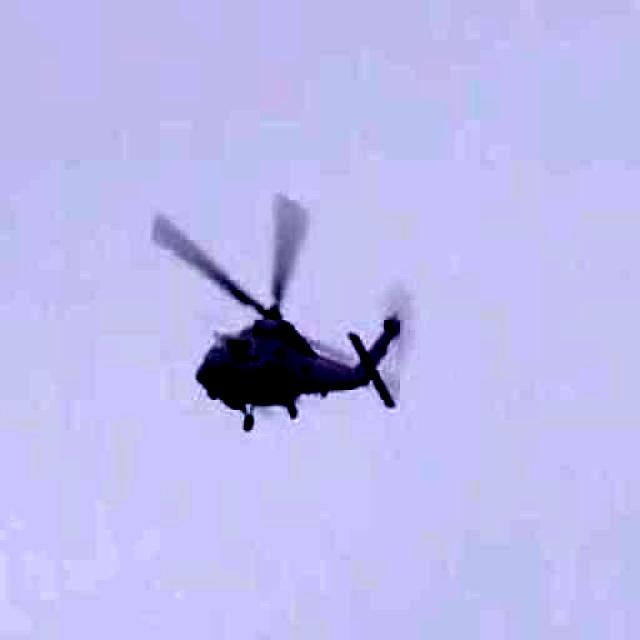drone: (119, 165, 439, 452)
